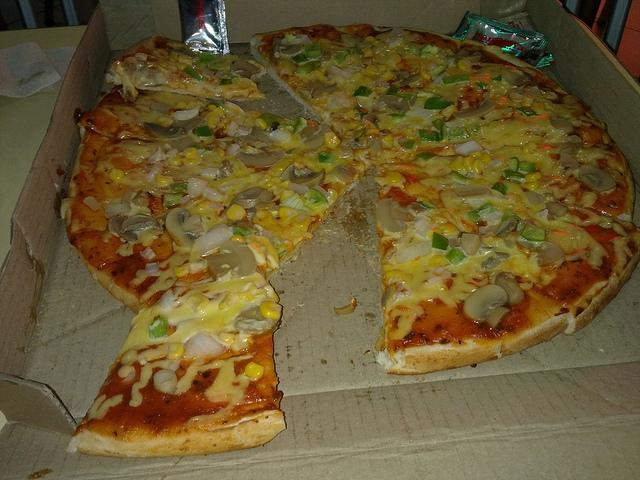corn: (260, 301, 282, 320), (187, 294, 210, 312), (226, 204, 248, 222), (244, 361, 264, 380), (290, 214, 312, 228), (428, 254, 450, 268), (323, 131, 341, 148), (580, 191, 598, 208), (230, 339, 250, 354), (219, 292, 236, 309), (448, 156, 466, 172), (140, 230, 158, 246), (112, 157, 132, 171), (408, 182, 428, 196), (169, 342, 184, 360), (174, 262, 190, 278), (380, 134, 395, 150), (121, 349, 137, 364), (462, 156, 477, 172), (218, 331, 235, 345), (117, 243, 134, 256), (156, 174, 174, 186), (481, 234, 496, 248), (472, 159, 486, 174), (229, 234, 248, 245), (457, 59, 473, 72), (384, 172, 401, 184), (156, 116, 174, 127), (110, 168, 124, 182), (182, 146, 198, 158), (522, 142, 538, 154), (440, 223, 457, 234), (441, 106, 458, 117), (115, 61, 128, 75), (477, 152, 491, 165), (207, 114, 220, 128), (182, 154, 200, 164), (387, 53, 402, 65), (600, 185, 616, 196), (338, 107, 354, 118), (328, 188, 339, 204), (380, 70, 396, 81), (195, 200, 212, 210), (487, 120, 501, 132), (178, 55, 193, 66), (209, 107, 225, 117), (278, 206, 294, 216), (278, 178, 291, 190), (279, 65, 293, 76), (525, 171, 542, 180), (254, 118, 267, 129), (205, 111, 220, 120), (242, 146, 258, 154), (468, 149, 482, 158), (168, 156, 182, 165), (367, 65, 378, 76), (434, 217, 449, 225), (496, 136, 506, 148), (136, 269, 148, 279), (260, 174, 272, 184), (118, 130, 130, 139), (124, 56, 137, 64), (214, 147, 225, 156), (378, 64, 388, 73), (176, 61, 186, 70), (362, 48, 373, 56), (176, 102, 187, 110), (364, 36, 376, 43), (520, 96, 534, 102), (360, 76, 370, 84), (602, 134, 610, 144), (420, 140, 430, 148), (293, 162, 306, 168), (377, 158, 386, 164), (250, 118, 256, 121)
mushroom: (205, 240, 258, 282), (463, 284, 511, 329), (166, 207, 204, 247), (235, 306, 280, 339), (376, 198, 414, 232), (281, 164, 325, 189), (578, 165, 616, 192), (494, 272, 524, 305), (230, 187, 274, 209), (301, 123, 332, 154), (453, 98, 495, 119), (119, 214, 156, 234), (143, 122, 184, 139), (479, 218, 517, 236), (537, 241, 563, 267), (380, 94, 410, 114), (230, 59, 261, 78), (236, 152, 278, 166), (558, 146, 582, 170), (310, 80, 338, 98), (460, 234, 482, 256), (250, 126, 274, 146), (550, 118, 576, 133), (189, 130, 216, 144), (546, 201, 568, 218), (565, 249, 590, 261), (368, 137, 382, 157), (281, 42, 303, 54), (400, 74, 422, 85), (108, 218, 120, 237), (270, 148, 286, 159)
onion: (184, 332, 228, 360), (193, 228, 235, 257), (396, 240, 432, 264), (478, 206, 504, 234), (153, 368, 178, 392), (424, 266, 451, 287), (172, 104, 201, 120), (455, 140, 483, 156), (186, 178, 208, 198), (405, 107, 437, 120), (236, 318, 273, 329), (202, 186, 225, 201), (159, 290, 173, 312), (329, 66, 352, 78), (83, 196, 101, 211), (414, 215, 430, 231), (270, 130, 290, 142), (145, 166, 159, 182), (145, 262, 160, 276), (140, 246, 156, 259), (226, 143, 242, 156), (152, 72, 169, 84), (389, 37, 404, 49), (228, 120, 238, 136), (392, 291, 412, 299), (327, 101, 344, 110), (288, 197, 300, 209), (431, 66, 444, 76), (237, 129, 249, 136)
